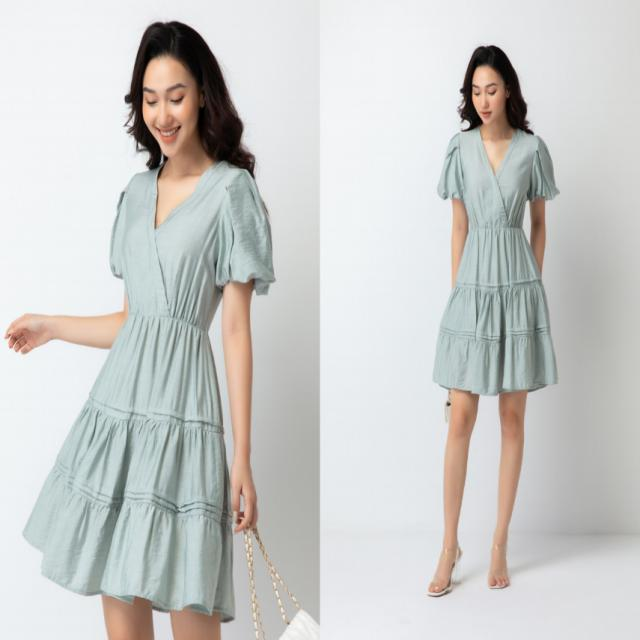clothes: (29, 165, 274, 624), (429, 121, 559, 397)
